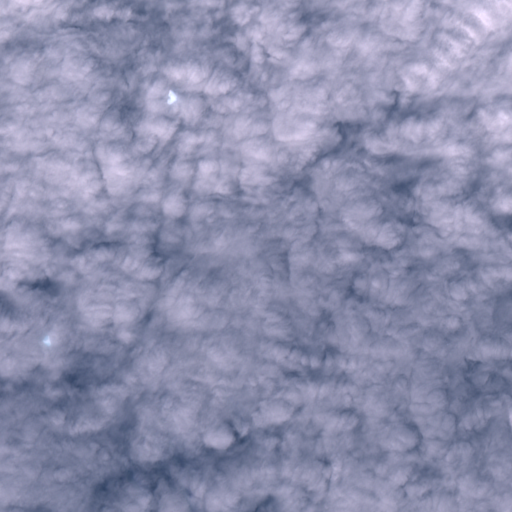Iceberg: (167, 90, 176, 104), (44, 336, 50, 345)
